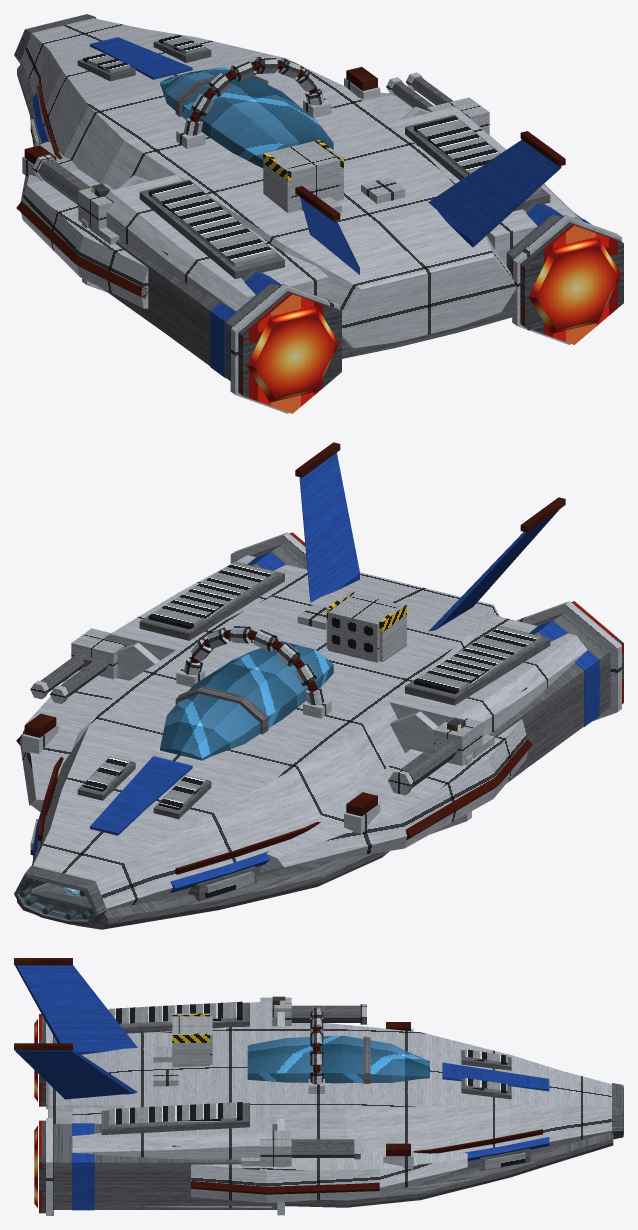
Rendered from storm_petrel.glb.
3 views of the same model, one above another, from view 1: azimuth 30°, elevation 25°; view 2: azimuth 150°, elevation 25°; view 3: azimuth 270°, elevation 25° (orthographic). The views are drawn at different scales.
Visible parts, largest first — view 1: hull, stern, nacelle, canopy, fin.001, cheek, exhaust, exhaust.001, booster, vent_louvres.002, nozzle_ring, nozzle_ring.001 (+24 smaller); view 2: hull, cheek, canopy, nacelle, lip, fin.001, booster, cheek.001, vent_louvres.003, vent_louvres.002, prow_panel, nacelle.001 (+26 smaller); view 3: hull, cheek.001, booster.001, canopy, nacelle.001, fin, lip, fin.001, vent_louvres.003, vent_louvres.002, field_rail.001, booster_band.001 (+26 smaller).
Boxes of the visible parts, x1,y1,x2,y2 form: hull: [21, 18, 513, 339]; stern: [342, 254, 515, 348]; nacelle: [100, 174, 328, 326]; canopy: [160, 67, 333, 168]; fin.001: [428, 140, 561, 247]; cheek: [20, 141, 148, 308]; exhaust: [247, 306, 339, 402]; exhaust.001: [528, 237, 621, 333]; booster: [106, 239, 279, 380]; vent_louvres.002: [148, 181, 276, 266]; nozzle_ring: [238, 291, 341, 413]; nozzle_ring.001: [520, 222, 623, 344]; hull: [32, 572, 499, 910]; cheek: [260, 719, 527, 872]; canopy: [160, 641, 333, 760]; nacelle: [389, 615, 587, 783]; lip: [17, 851, 389, 929]; fin.001: [299, 452, 359, 602]; booster: [489, 612, 610, 782]; cheek.001: [19, 670, 129, 811]; vent_louvres.003: [148, 562, 276, 629]; vent_louvres.002: [414, 626, 541, 693]; prow_panel: [90, 756, 192, 835]; nacelle.001: [104, 555, 308, 660]; hull: [50, 1025, 611, 1173]; cheek.001: [191, 1146, 467, 1202]; booster.001: [53, 1124, 277, 1209]; canopy: [247, 1035, 429, 1083]; nacelle.001: [72, 1107, 272, 1207]; fin: [15, 965, 137, 1054]; lip: [285, 1132, 613, 1207]; fin.001: [15, 1049, 137, 1099]; vent_louvres.003: [109, 1102, 242, 1127]; vent_louvres.002: [109, 1001, 242, 1026]; field_rail.001: [191, 1181, 379, 1194]; booster_band.001: [72, 1123, 94, 1210].
Size of the model in its own units: 60.69 by 28.23 by 97.1.
Materials: 15 (15 with a texture image).
